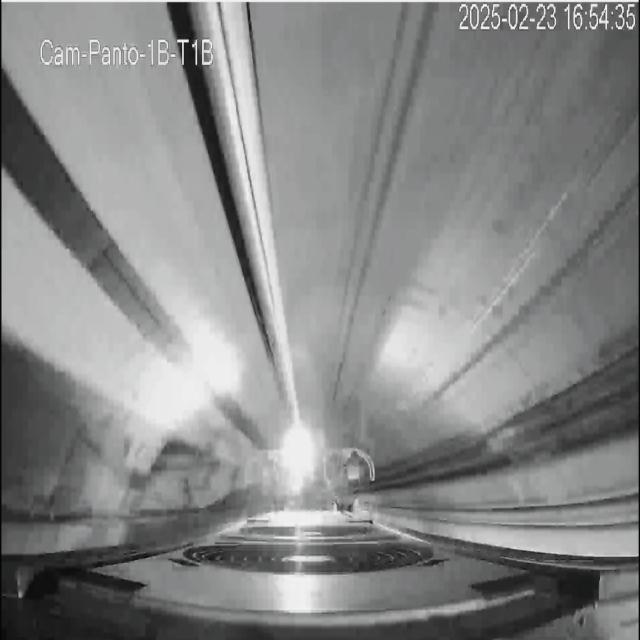Camera Stamp: (39, 33, 216, 70)
Date Stamp: (457, 3, 636, 33)
Sparks: (276, 416, 322, 492)
